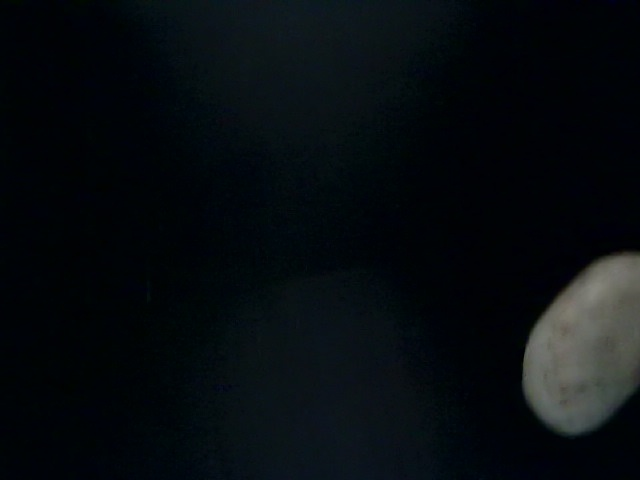QTLJ: (180, 424, 306, 480)
